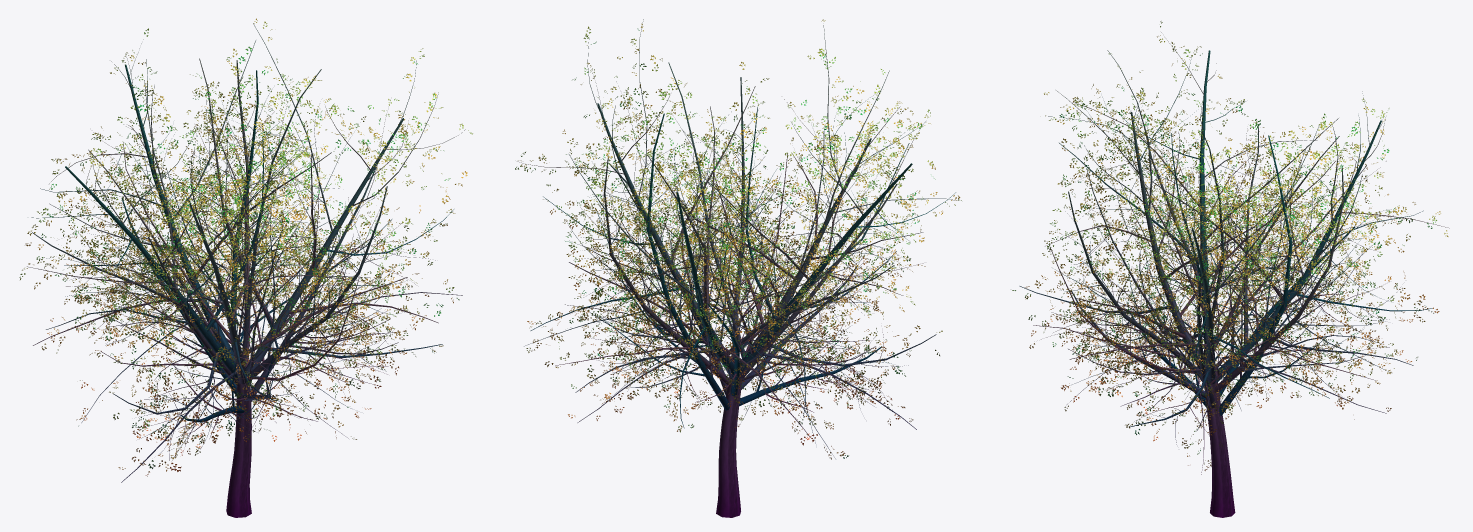
3 renders of one model, left to right at view 1: azimuth 30°, elevation 25°; view 2: azimuth 150°, elevation 25°; view 3: azimuth 270°, elevation 25°, orthographic. The views are drawn at different scales.
Parts seen in each view (by area): view 1: plains_cottonwood_LOD1; view 2: plains_cottonwood_LOD1; view 3: plains_cottonwood_LOD1.
Part boxes in pixels (x1=…): plains_cottonwood_LOD1: x1=19, y1=18, x2=472, y2=517; plains_cottonwood_LOD1: x1=515, y1=19, x2=961, y2=517; plains_cottonwood_LOD1: x1=1012, y1=21, x2=1449, y2=517.
Size of the model in its own units: 27 by 27.57 by 26.88.
2 materials, 2 textured.
